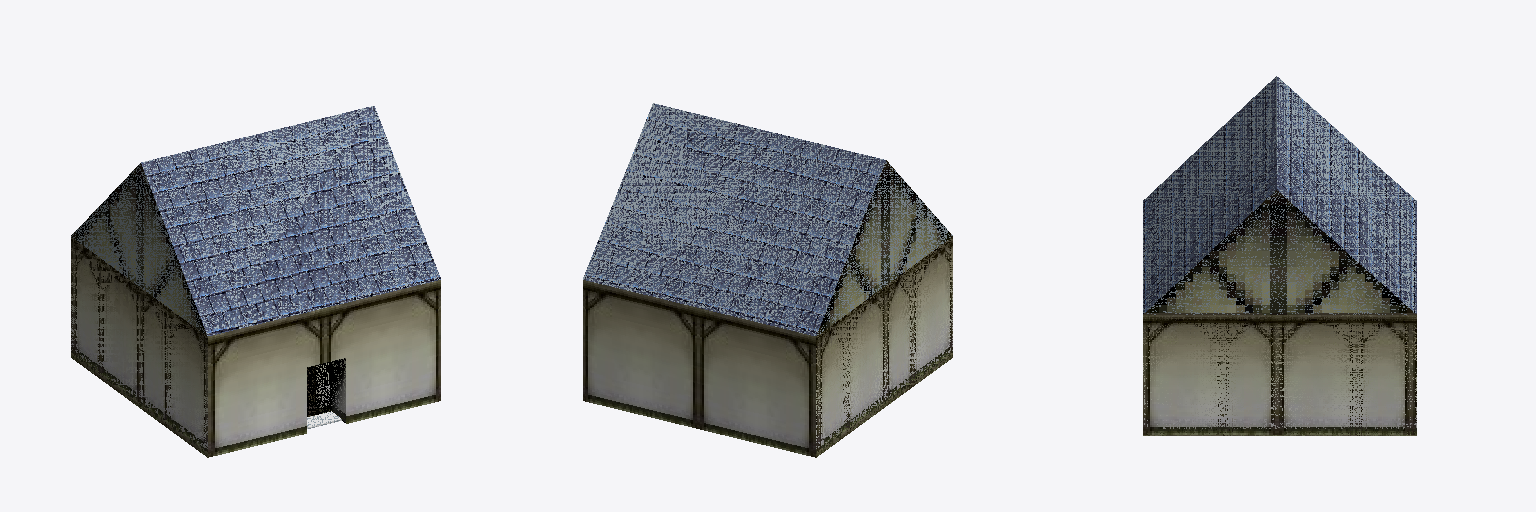
The picture shows the model from 3 angles: view 1: azimuth 30°, elevation 25°; view 2: azimuth 150°, elevation 25°; view 3: azimuth 270°, elevation 25°; orthographic projection.
Visible parts, largest first — view 1: Mesh1 Group1 Model, Mesh5 Group2 Model; view 2: Mesh1 Group1 Model, Mesh5 Group2 Model; view 3: Mesh1 Group1 Model, Mesh5 Group2 Model.
Part boxes in pixels (x1,y1,x2,y2): Mesh1 Group1 Model: (71, 106, 440, 335); Mesh5 Group2 Model: (71, 237, 440, 457); Mesh1 Group1 Model: (583, 103, 952, 335); Mesh5 Group2 Model: (583, 237, 952, 457); Mesh1 Group1 Model: (1143, 76, 1416, 314); Mesh5 Group2 Model: (1143, 315, 1416, 435).
Size of the model in its own units: 7.61 by 7.67 by 7.74.
Materials: 7 (5 with a texture image).